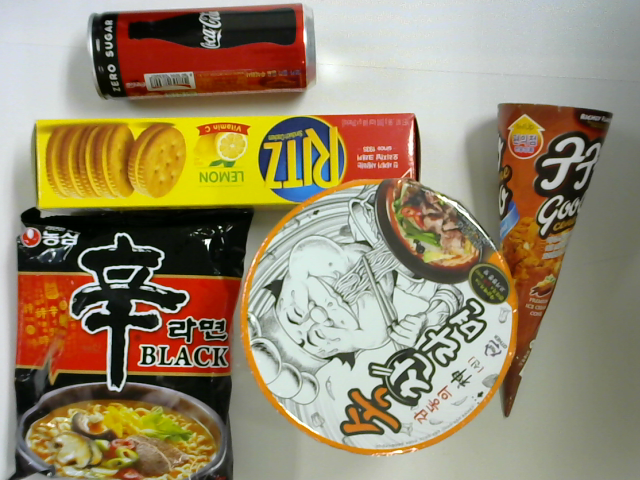Coca_Cola_Zero_Can_250ml: (87, 2, 321, 100)
GooGoo_Cone_CVS: (493, 99, 616, 421)
Hejangchan: (240, 181, 519, 450)
Ritz_Remon_96g: (24, 116, 421, 211)
Sinramen_Black: (13, 206, 254, 480)
